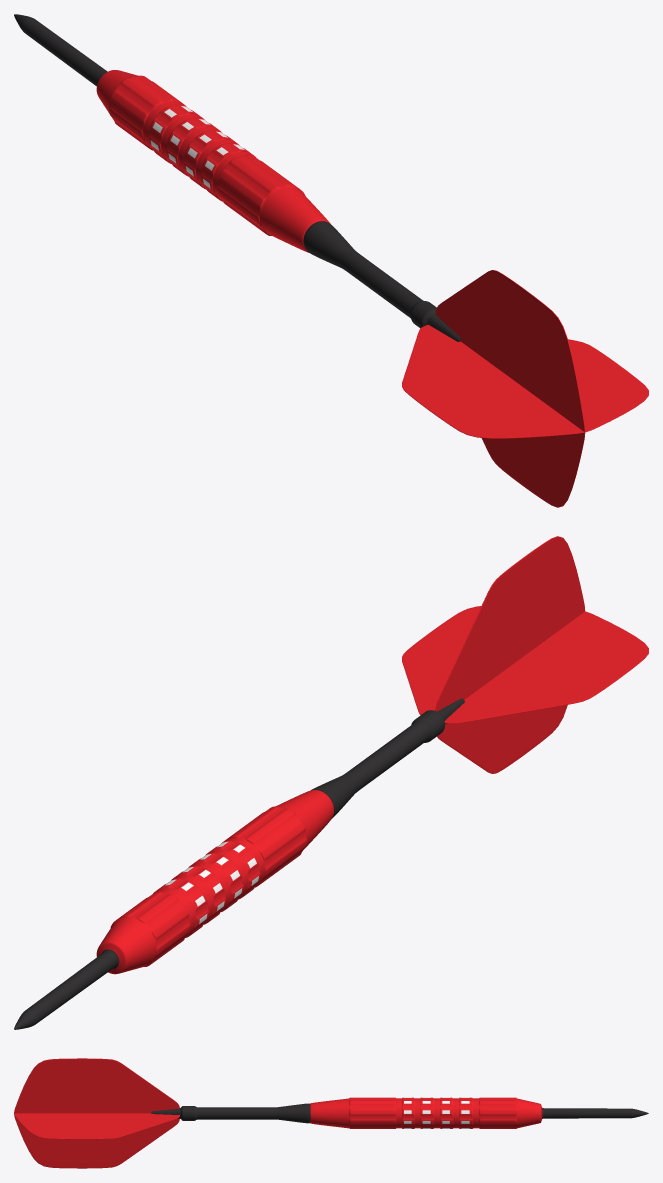
File: 11750_throwing_dart_v1_L3.obj
The picture shows the model from 3 angles, top to bottom: view 1: azimuth 30°, elevation 25°; view 2: azimuth 150°, elevation 25°; view 3: azimuth 270°, elevation 25°; orthographic projection. The views are drawn at different scales.
Visible parts, largest first — view 1: throwing_dart; view 2: throwing_dart; view 3: throwing_dart.
Part boxes in pixels (x1,y1,x2,y2): throwing_dart: [14, 14, 648, 507]; throwing_dart: [14, 536, 648, 1029]; throwing_dart: [14, 1058, 648, 1168].
Bounding box in the file's own units: 1.89 × 1.89 × 9.89.
Materials: 1 (1 with a texture image).
